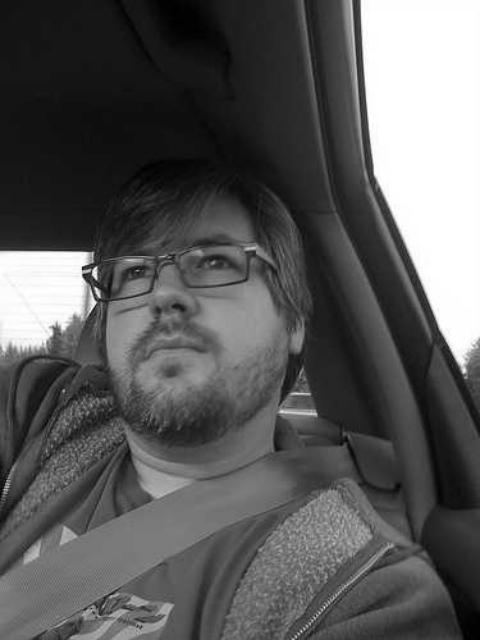SafeDriving: (183, 244, 250, 282), (113, 252, 162, 288)
Seatbelt: (0, 440, 364, 640)
